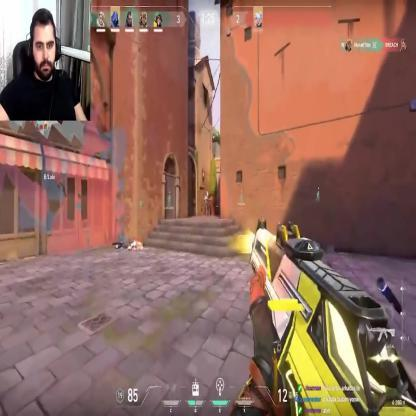enemy: (204, 191, 209, 215)
enemy_head: (206, 191, 209, 197)
